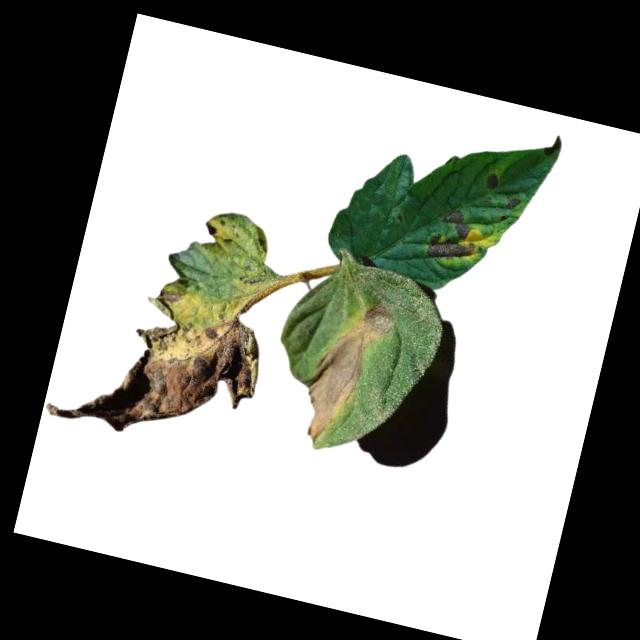Early_blight: (43, 270, 272, 464), (293, 289, 397, 456), (423, 204, 484, 269), (541, 133, 563, 162), (484, 172, 504, 192), (504, 196, 524, 214), (200, 221, 218, 239)
